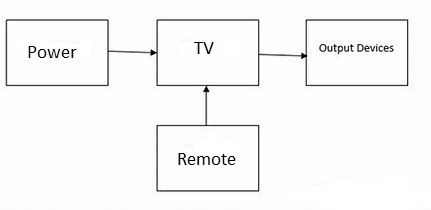arrow: (106, 48, 158, 58), (256, 51, 306, 60), (200, 86, 211, 123)
process: (3, 17, 111, 87), (155, 17, 261, 87), (303, 16, 409, 86), (154, 123, 261, 192)
text: (317, 40, 394, 54), (178, 151, 237, 166), (26, 44, 78, 59), (193, 39, 214, 54)
